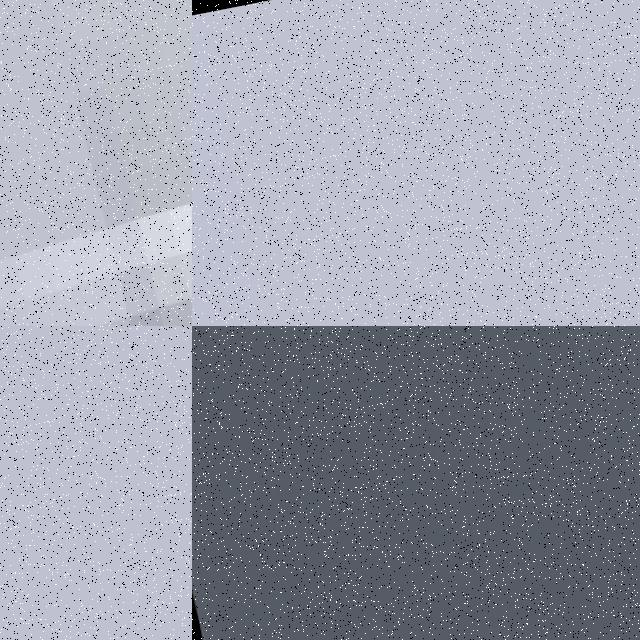0: (0, 0, 192, 326)
drone: (192, 326, 640, 640)
